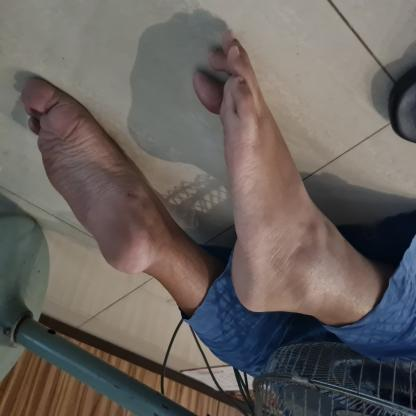leg: (183, 24, 386, 328), (17, 71, 215, 322)
